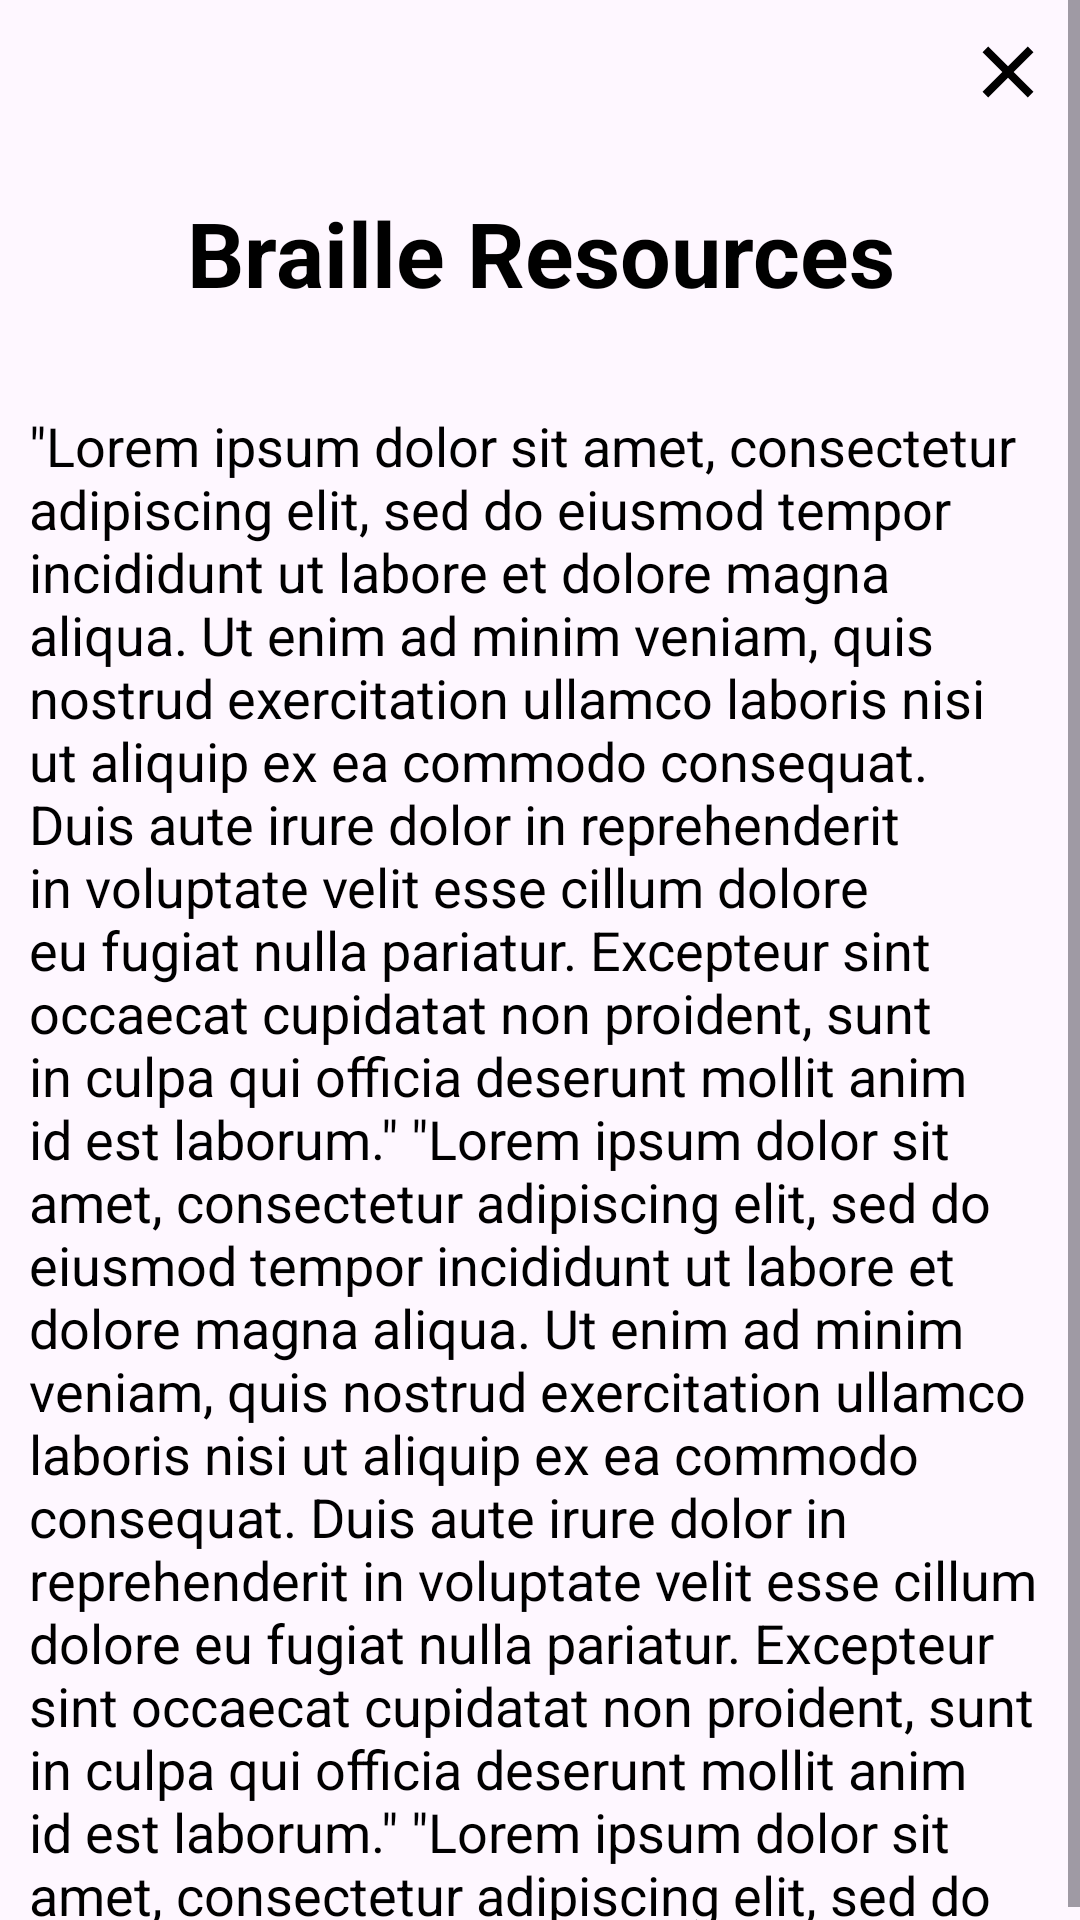

Icons on this 1080w x 1920h Android screen, each with the point to tap as point (x, y):
multiplication: point (1008, 72)
